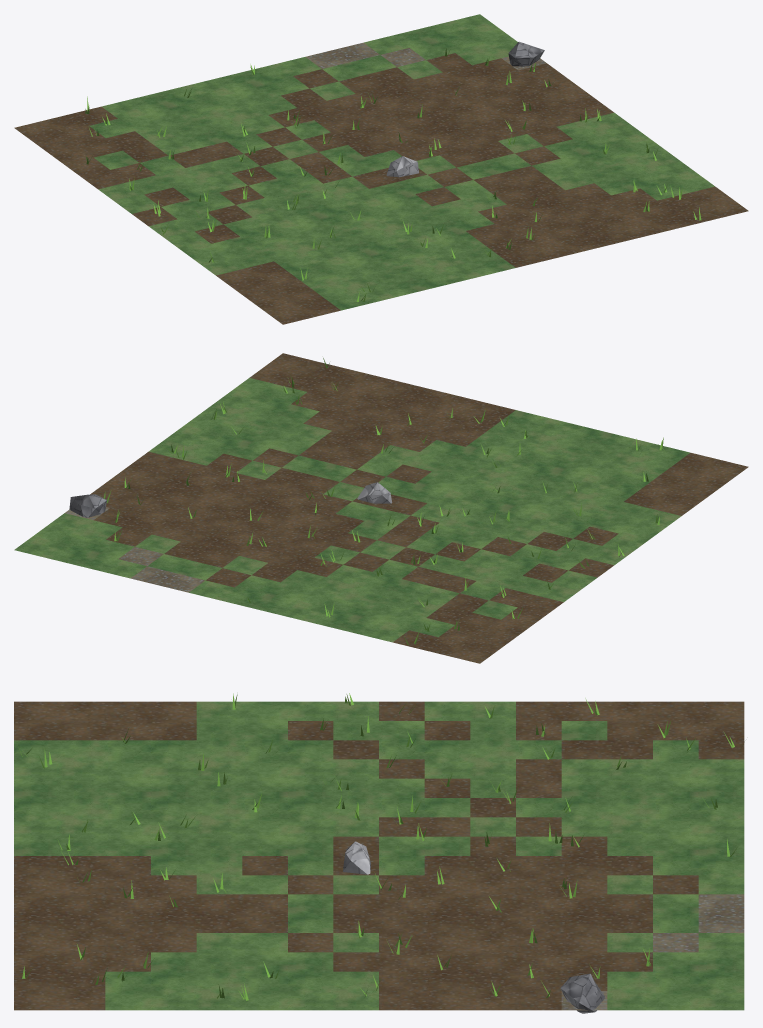
Rendered from chunk_0_20.glb.
3 renders of one model, top to bottom at view 1: azimuth 30°, elevation 25°; view 2: azimuth 150°, elevation 25°; view 3: azimuth 270°, elevation 25°, orthographic. The views are drawn at different scales.
Visible parts, largest first — view 1: chunk_0_20; view 2: chunk_0_20; view 3: chunk_0_20.
Part boxes in pixels (x1,y1,x2,y2): chunk_0_20: [14, 14, 748, 324]; chunk_0_20: [14, 353, 748, 663]; chunk_0_20: [14, 693, 744, 1013].
Bounding box in the file's own units: 16.14 × 0.9674 × 16.1.
Materials: 6 (5 with a texture image).
